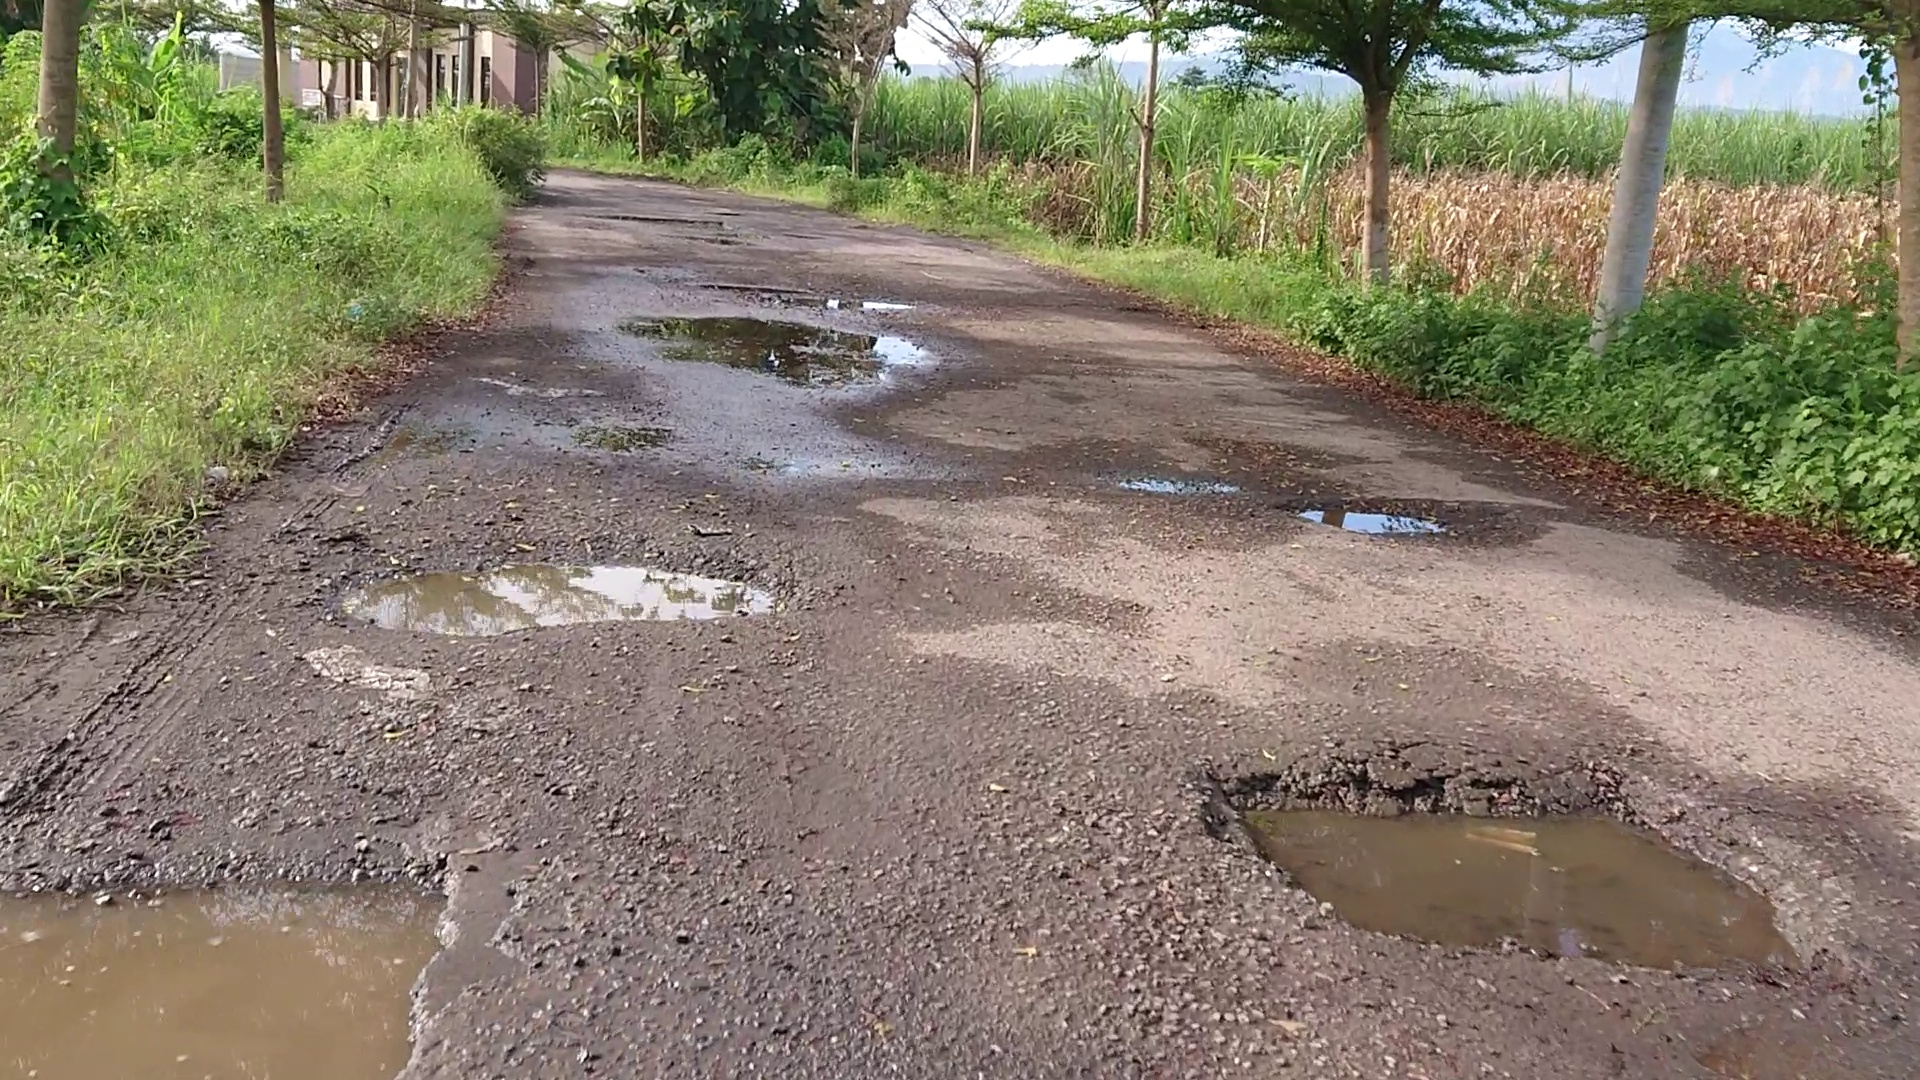Berlubang: (1232, 793, 1764, 977), (1, 887, 465, 1080), (644, 294, 953, 396), (335, 550, 760, 624), (1282, 492, 1460, 549)
